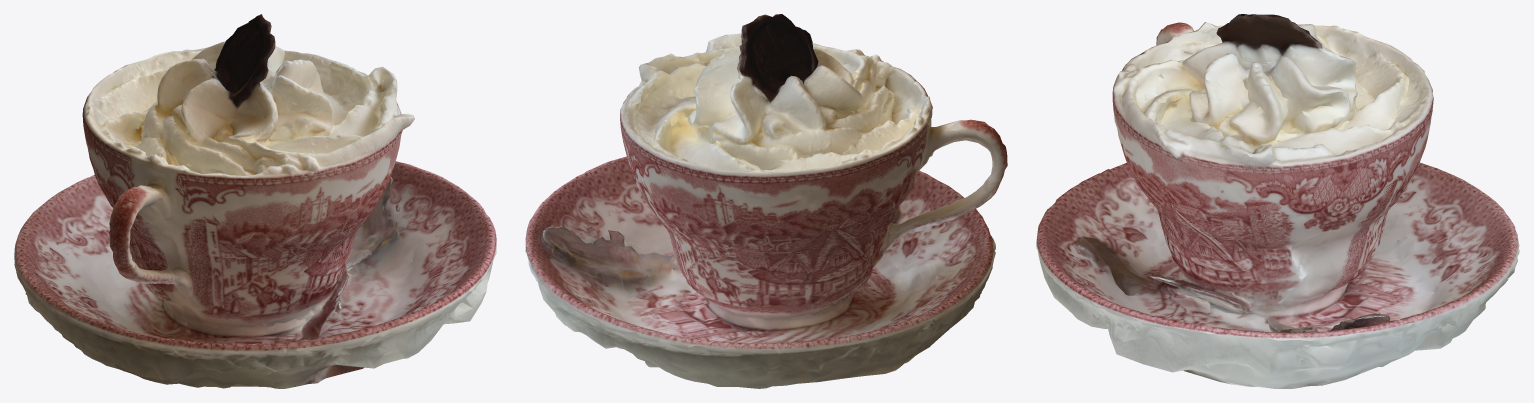
File: vienna_coffee_with_chantilly01.glb
3 renders of one model, left to right at view 1: azimuth 30°, elevation 25°; view 2: azimuth 150°, elevation 25°; view 3: azimuth 270°, elevation 25°, orthographic. The views are drawn at different scales.
Visible parts, largest first — view 1: Object_2; view 2: Object_2; view 3: Object_2.
Boxes of the visible parts, bbox=[...] form: Object_2: bbox=[14, 14, 496, 388]; Object_2: bbox=[525, 14, 1007, 388]; Object_2: bbox=[1036, 14, 1519, 388].
Bounding box in the file's own units: 2.39 × 1.62 × 2.37.
1 material, 1 textured.
